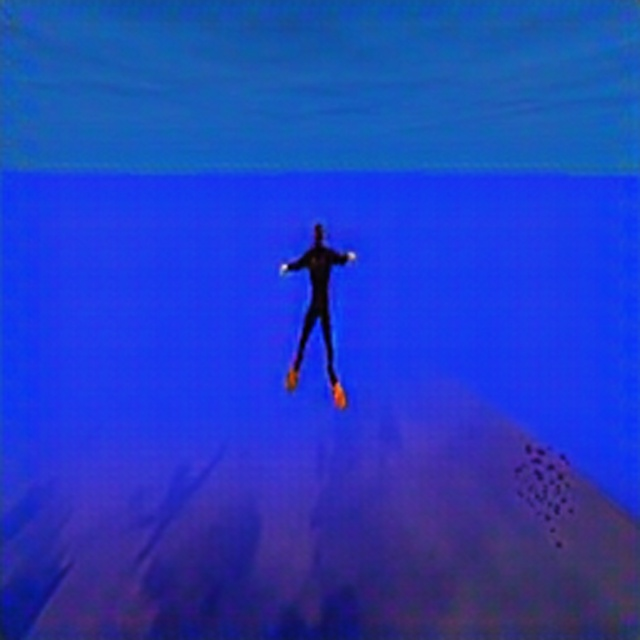diver: (277, 218, 359, 410)
